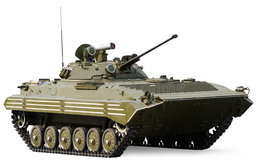bmp: (5, 28, 260, 157)
